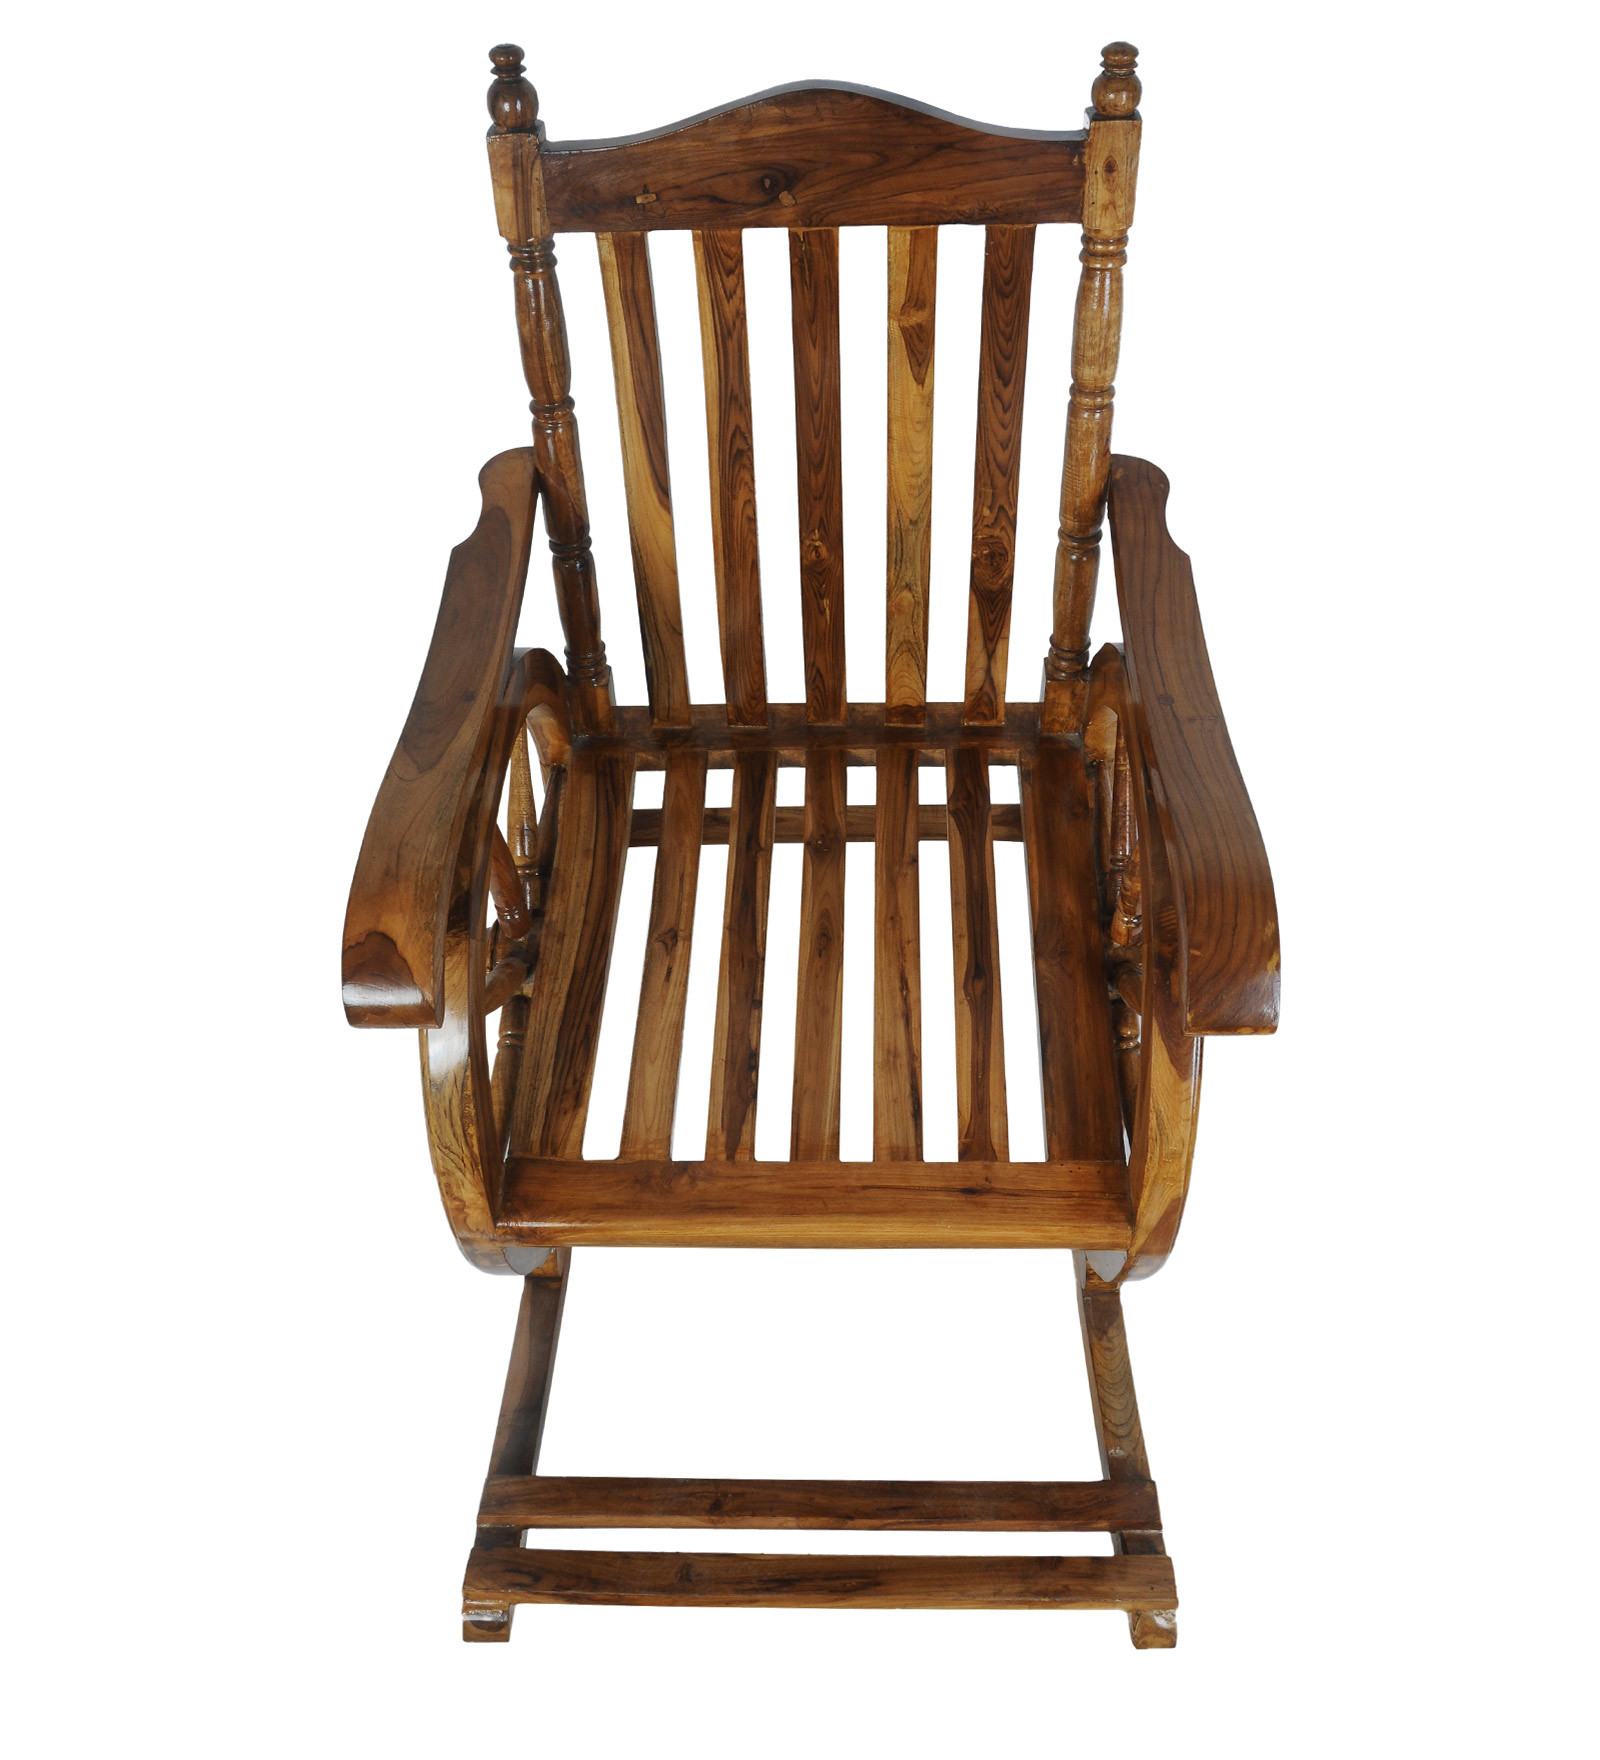Chariot Teak Wood Rocking Chair in Natural Finish by Furniease: (251, 28, 1252, 1696)
